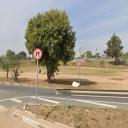NoSeguir: (77, 61, 81, 67)
